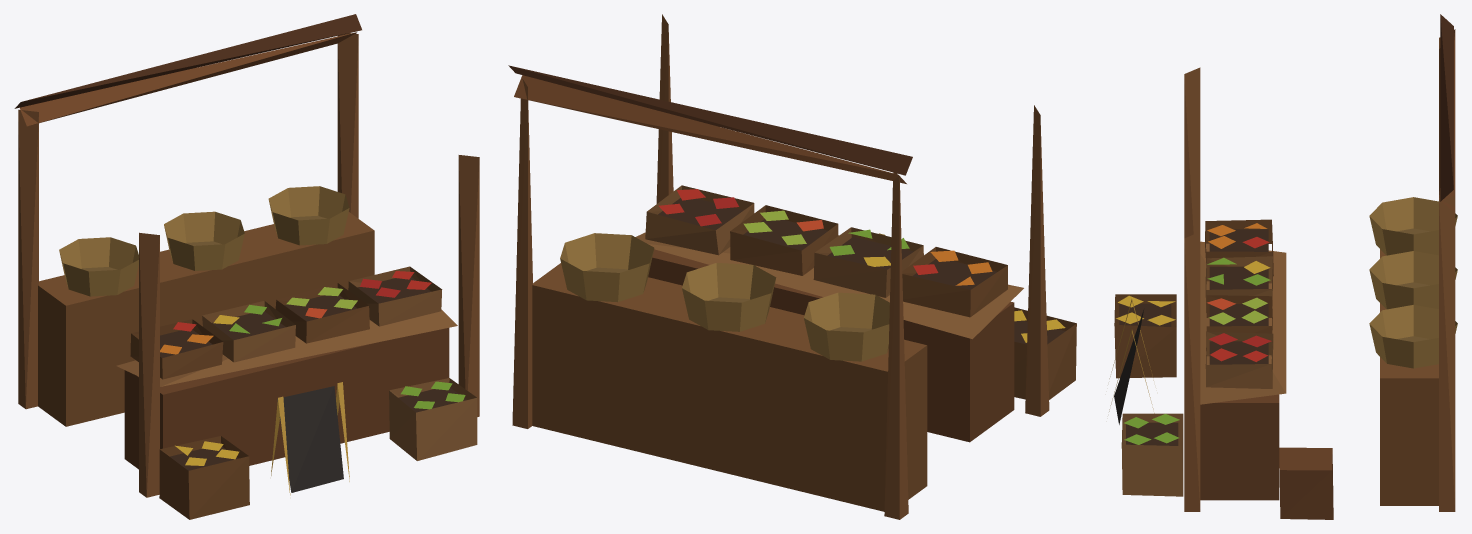
File: town_market_stall-lod1.glb
3 views of the same model, side by side, from view 1: azimuth 30°, elevation 25°; view 2: azimuth 150°, elevation 25°; view 3: azimuth 270°, elevation 25° (orthographic). The views are drawn at different scales.
Parts seen in each view (by area): view 1: town_market_stall; view 2: town_market_stall; view 3: town_market_stall.
Boxes of the visible parts, <box> form: town_market_stall: <box>14,14,479,519</box>; town_market_stall: <box>508,14,1076,519</box>; town_market_stall: <box>1109,14,1457,519</box>.
Bounding box in the file's own units: 3.2 × 2.68 × 2.63.
